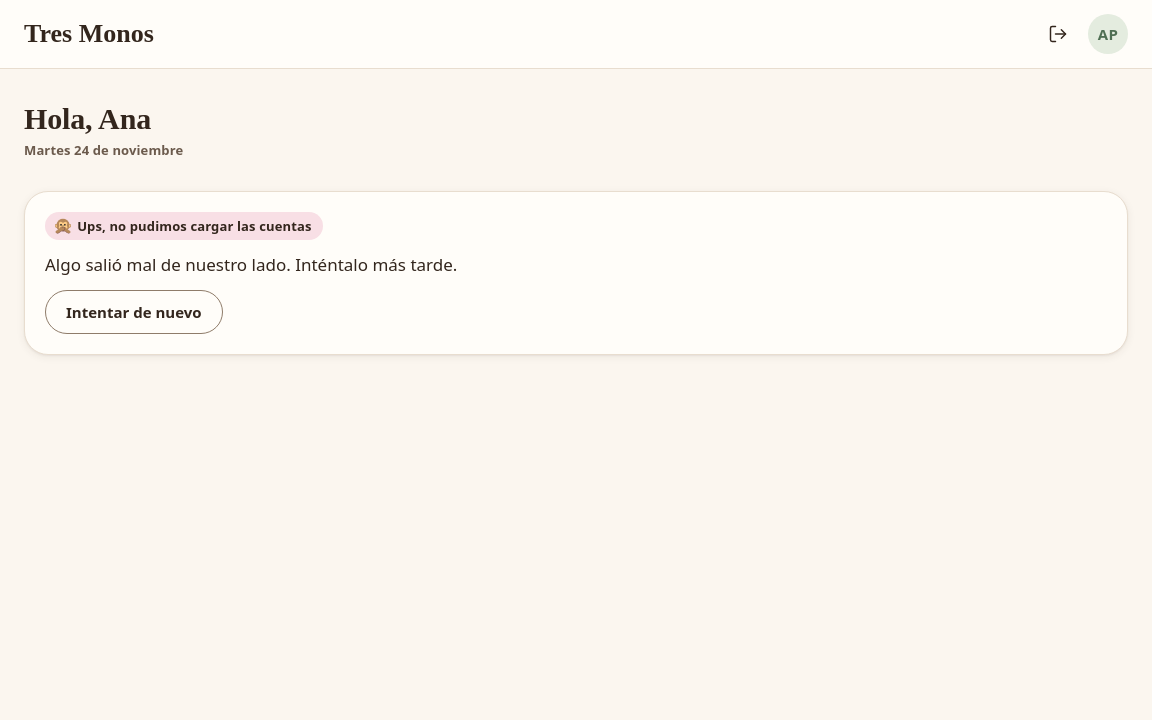
it: DashboardScreen › when the ledger cannot be read › lets the family retry
What coordinates should you click on to do the following:
click the button "Intentar de nuevo"
I would click on:
 (134, 312)
Its box is [45,290,223,334].
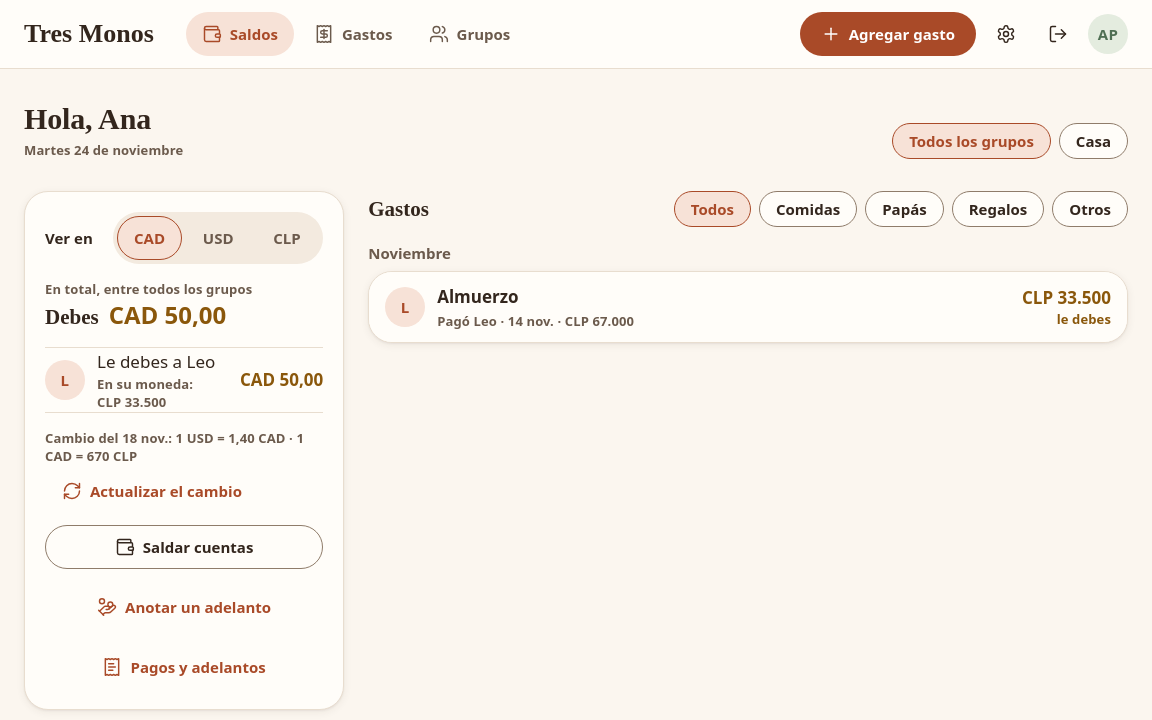
Now the text "Debes" is shown, box [45,303,99,331]
